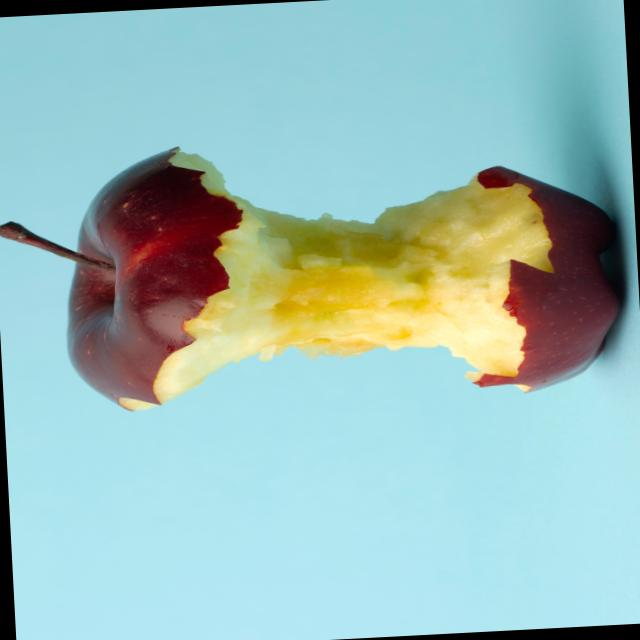apple_fruit: (11, 132, 637, 425)
